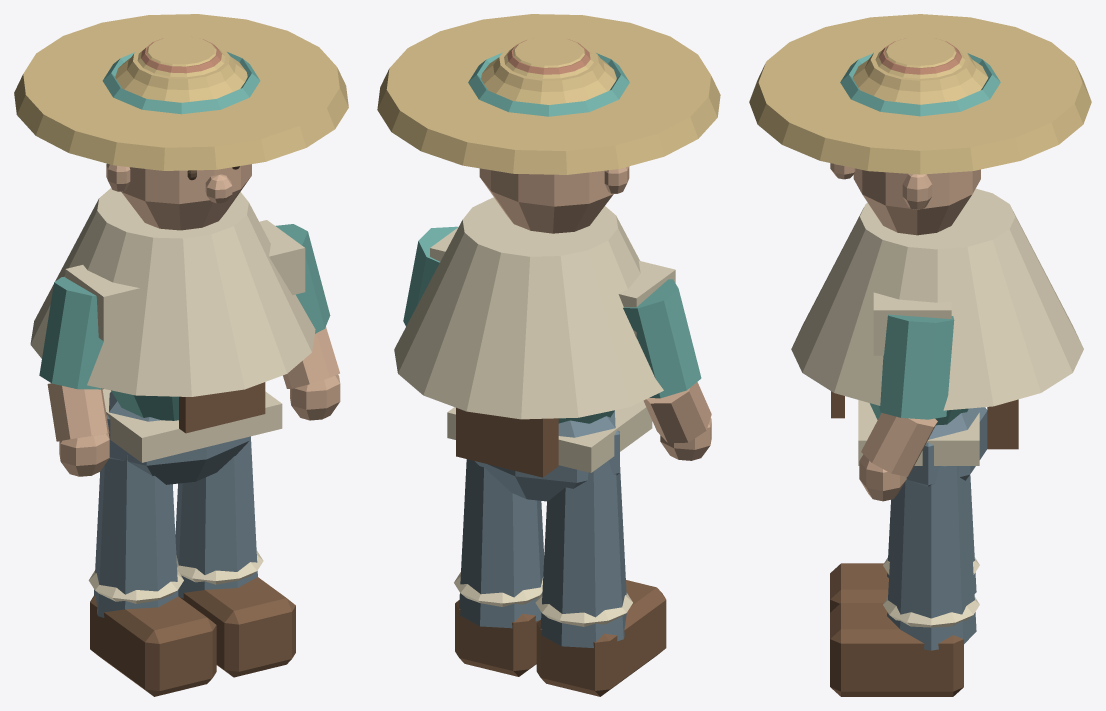
File: world15-farmers.glb
The picture shows the model from 3 angles, left to right: view 1: azimuth 30°, elevation 25°; view 2: azimuth 150°, elevation 25°; view 3: azimuth 270°, elevation 25°; orthographic projection. The views are drawn at different scales.
Visible parts, largest first — view 1: w15-farmer-canaltender-head-straw, w15-farmer-waterkeeper-body-linen, w15-farmer-fieldhand-lower-indigo, w15-farmer-fieldhand-lower-leather, w15-farmer-fieldhand-body-linen, w15-farmer-fieldhand-head-skin, w15-farmer-fieldhand-upper-arm, w15-farmer-fieldhand-left-arm-skin, w15-farmer-fieldhand-right-arm-skin, w15-farmer-waterkeeper-water-ledger, w15-farmer-canaltender-hat-ribbon, w15-farmer-fieldhand-lower-linen (+4 smaller); view 2: w15-farmer-waterkeeper-body-linen, w15-farmer-canaltender-head-straw, w15-farmer-fieldhand-lower-indigo, w15-farmer-fieldhand-lower-leather, w15-farmer-fieldhand-head-skin, w15-farmer-canaltender-gauge-board, w15-farmer-fieldhand-upper-arm, w15-farmer-fieldhand-body-linen, w15-farmer-fieldhand-left-arm-skin, w15-farmer-canaltender-hat-ribbon, w15-farmer-fieldhand-lower-linen, w15-farmer-fieldhand-short-cap (+2 smaller); view 3: w15-farmer-canaltender-head-straw, w15-farmer-waterkeeper-body-linen, w15-farmer-fieldhand-lower-indigo, w15-farmer-fieldhand-lower-leather, w15-farmer-fieldhand-upper-arm.001, w15-farmer-fieldhand-head-skin, w15-farmer-fieldhand-body-linen, w15-farmer-fieldhand-right-arm-skin, w15-farmer-canaltender-hat-ribbon, w15-farmer-fieldhand-short-cap, w15-farmer-canaltender-gauge-board, w15-farmer-fieldhand-lower-linen (+1 smaller).
Boxes of the visible parts, x1,y1,x2,y2 form: w15-farmer-canaltender-head-straw: (14, 14, 348, 170); w15-farmer-waterkeeper-body-linen: (30, 188, 315, 396); w15-farmer-fieldhand-lower-indigo: (94, 391, 257, 617); w15-farmer-fieldhand-lower-leather: (90, 577, 295, 696); w15-farmer-fieldhand-body-linen: (65, 220, 305, 462); w15-farmer-fieldhand-head-skin: (106, 163, 251, 230); w15-farmer-fieldhand-upper-arm: (39, 277, 103, 389); w15-farmer-fieldhand-left-arm-skin: (47, 383, 109, 476); w15-farmer-fieldhand-right-arm-skin: (283, 327, 340, 420); w15-farmer-waterkeeper-water-ledger: (179, 382, 265, 433); w15-farmer-canaltender-hat-ribbon: (102, 52, 260, 114); w15-farmer-fieldhand-lower-linen: (88, 551, 263, 603); w15-farmer-waterkeeper-body-linen: (394, 197, 663, 419); w15-farmer-canaltender-head-straw: (377, 14, 720, 174); w15-farmer-fieldhand-lower-indigo: (459, 411, 626, 647); w15-farmer-fieldhand-lower-leather: (455, 580, 666, 696); w15-farmer-fieldhand-head-skin: (479, 166, 629, 233); w15-farmer-canaltender-gauge-board: (456, 407, 558, 477); w15-farmer-fieldhand-upper-arm: (623, 279, 701, 398); w15-farmer-fieldhand-body-linen: (430, 227, 675, 472); w15-farmer-fieldhand-left-arm-skin: (643, 382, 711, 460); w15-farmer-canaltender-hat-ribbon: (468, 52, 629, 116); w15-farmer-fieldhand-lower-linen: (454, 572, 632, 626); w15-farmer-fieldhand-short-cap: (493, 42, 604, 91); w15-farmer-canaltender-head-straw: (749, 14, 1091, 174); w15-farmer-waterkeeper-body-linen: (791, 188, 1083, 410); w15-farmer-fieldhand-lower-indigo: (887, 407, 987, 650); w15-farmer-fieldhand-lower-leather: (830, 563, 963, 696); w15-farmer-fieldhand-upper-arm.001: (879, 314, 954, 419); w15-farmer-fieldhand-head-skin: (830, 163, 980, 235); w15-farmer-fieldhand-body-linen: (858, 292, 979, 465); w15-farmer-fieldhand-right-arm-skin: (859, 413, 937, 501); w15-farmer-canaltender-hat-ribbon: (840, 53, 1000, 116); w15-farmer-fieldhand-short-cap: (864, 43, 976, 91); w15-farmer-canaltender-gauge-board: (987, 399, 1018, 449); w15-farmer-fieldhand-lower-linen: (883, 557, 979, 627).
Size of the model in its own units: 1.1 by 2.17 by 1.1.
